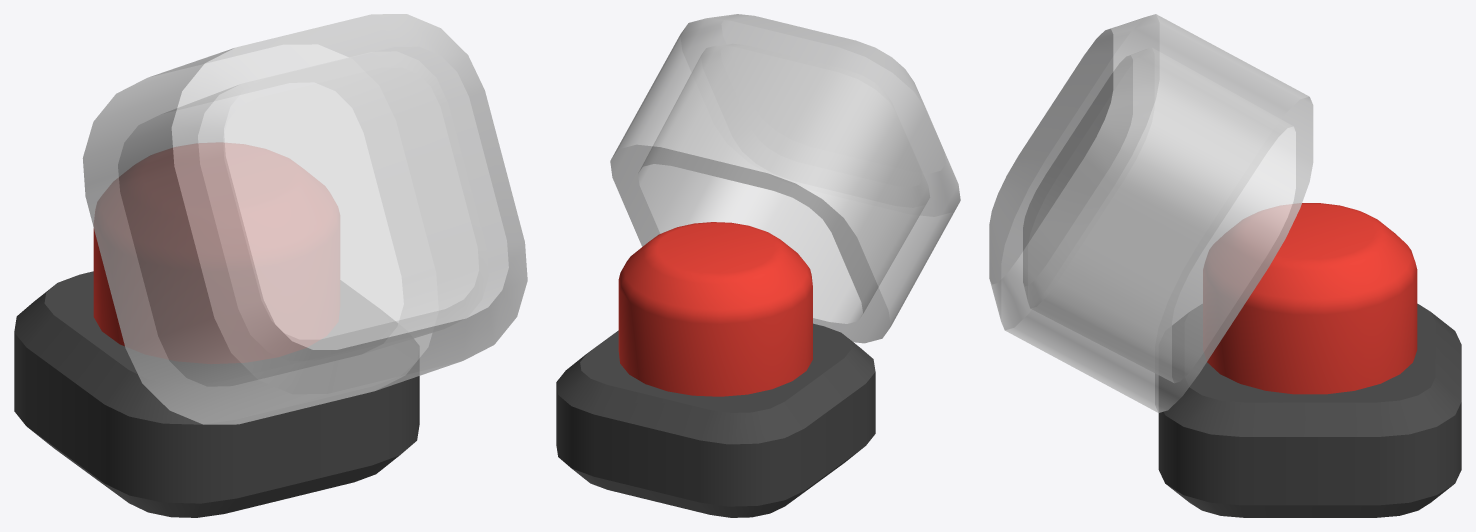
Rendered from Button.fbx.
3 views of the same model, side by side, from view 1: azimuth 30°, elevation 25°; view 2: azimuth 150°, elevation 25°; view 3: azimuth 270°, elevation 25° (orthographic). The views are drawn at different scales.
Visible parts, largest first — view 1: Cube.021, Cube.019, Cube.020; view 2: Cube.021, Cube.019, Cube.020; view 3: Cube.021, Cube.019, Cube.020.
Part boxes in pixels (x1=…): Cube.021: x1=82, y1=14, x2=527, y2=424; Cube.019: x1=14, y1=271, x2=419, y2=517; Cube.020: x1=93, y1=143, x2=339, y2=363; Cube.021: x1=610, y1=14, x2=960, y2=343; Cube.019: x1=556, y1=323, x2=875, y2=517; Cube.020: x1=618, y1=222, x2=812, y2=396; Cube.021: x1=989, y1=14, x2=1313, y2=412; Cube.019: x1=1158, y1=303, x2=1461, y2=517; Cube.020: x1=1203, y1=203, x2=1417, y2=394.
Bounding box in the file's own units: 1.65 × 2.43 × 2.51.
